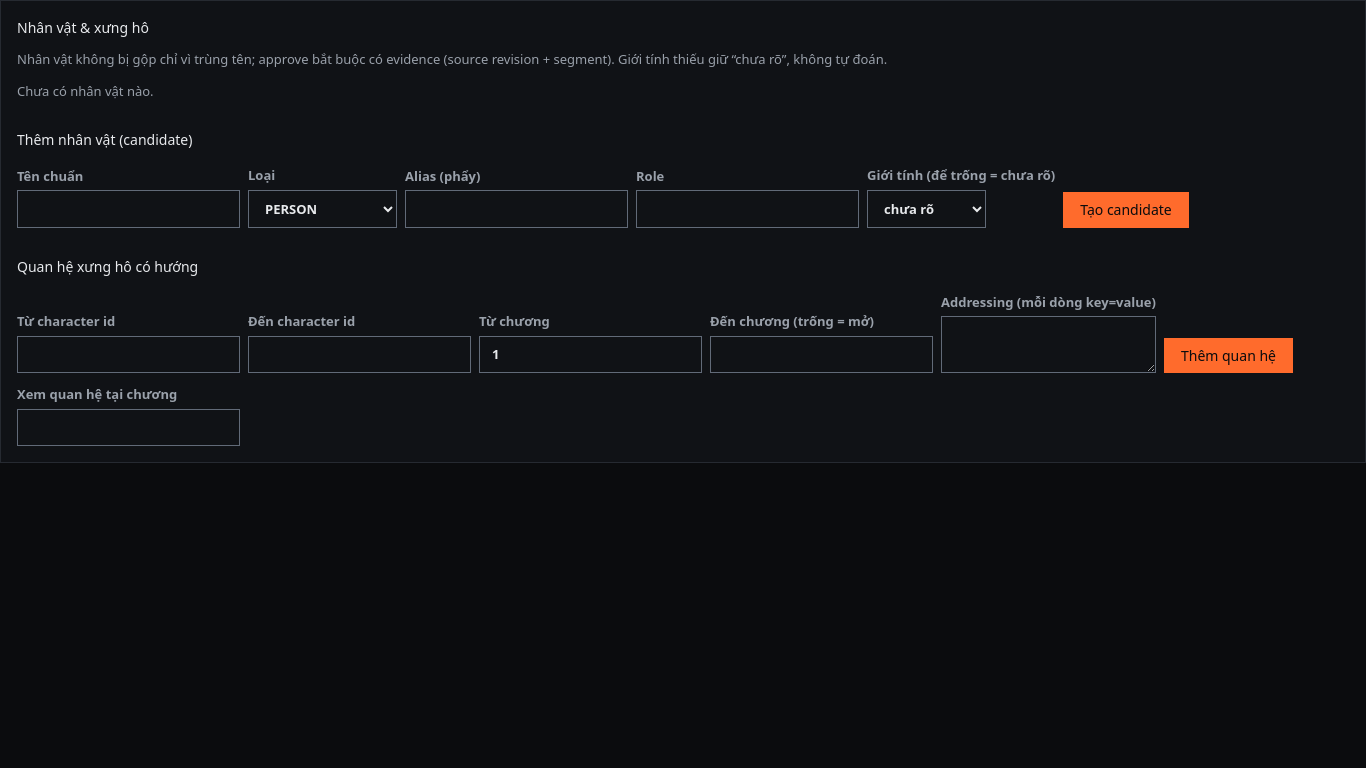
Test: CharacterManager (U09 part 3) › sends directed relationships and lists them for a chapter
Expected: the text "Chưa có nhân vật nào." is shown, [17,82,154,100]
In the field labelled "Từ character id": (128, 354) [17,336,240,373], type "c1"
In the field labelled "Đến character id": (360, 354) [248,336,471,373], type "c2"
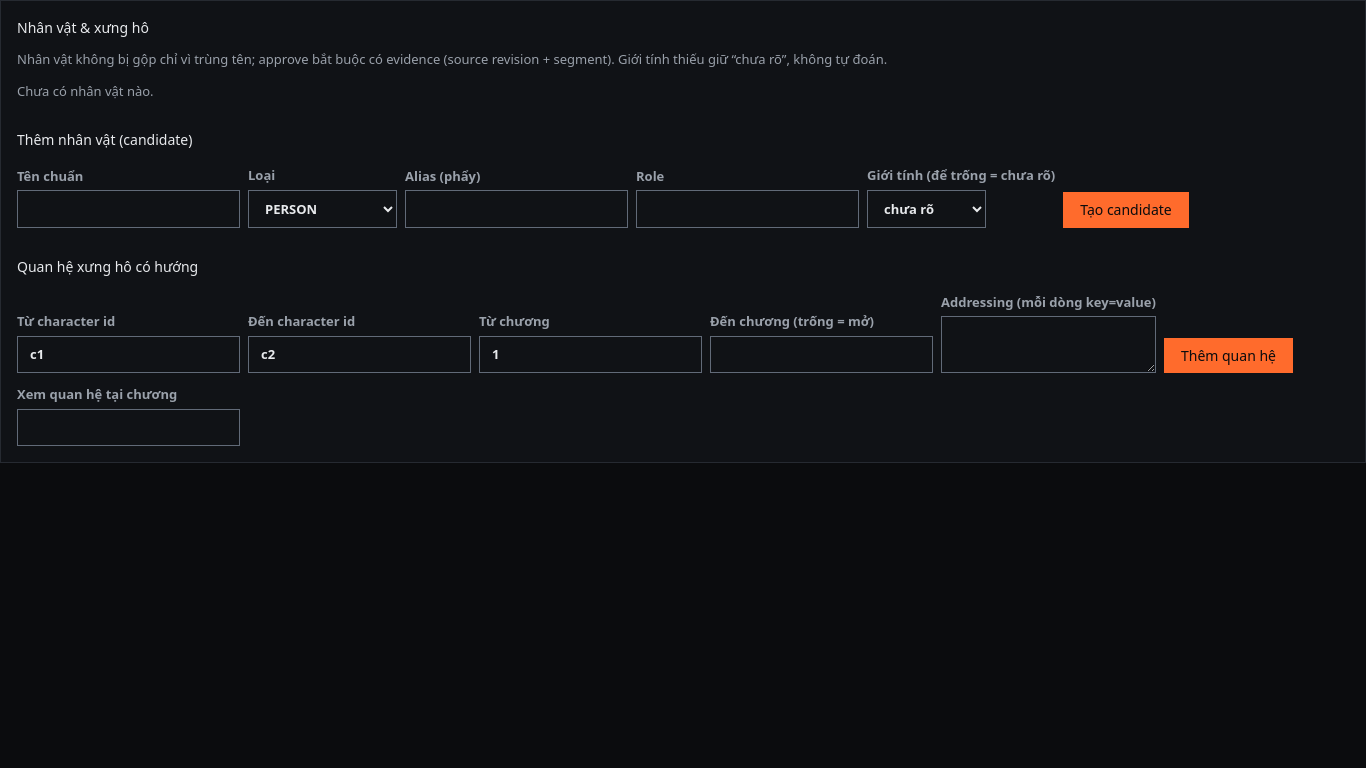
Replace the text in the field labelled "Từ chương" with "2": (590, 354) [479,336,702,373]
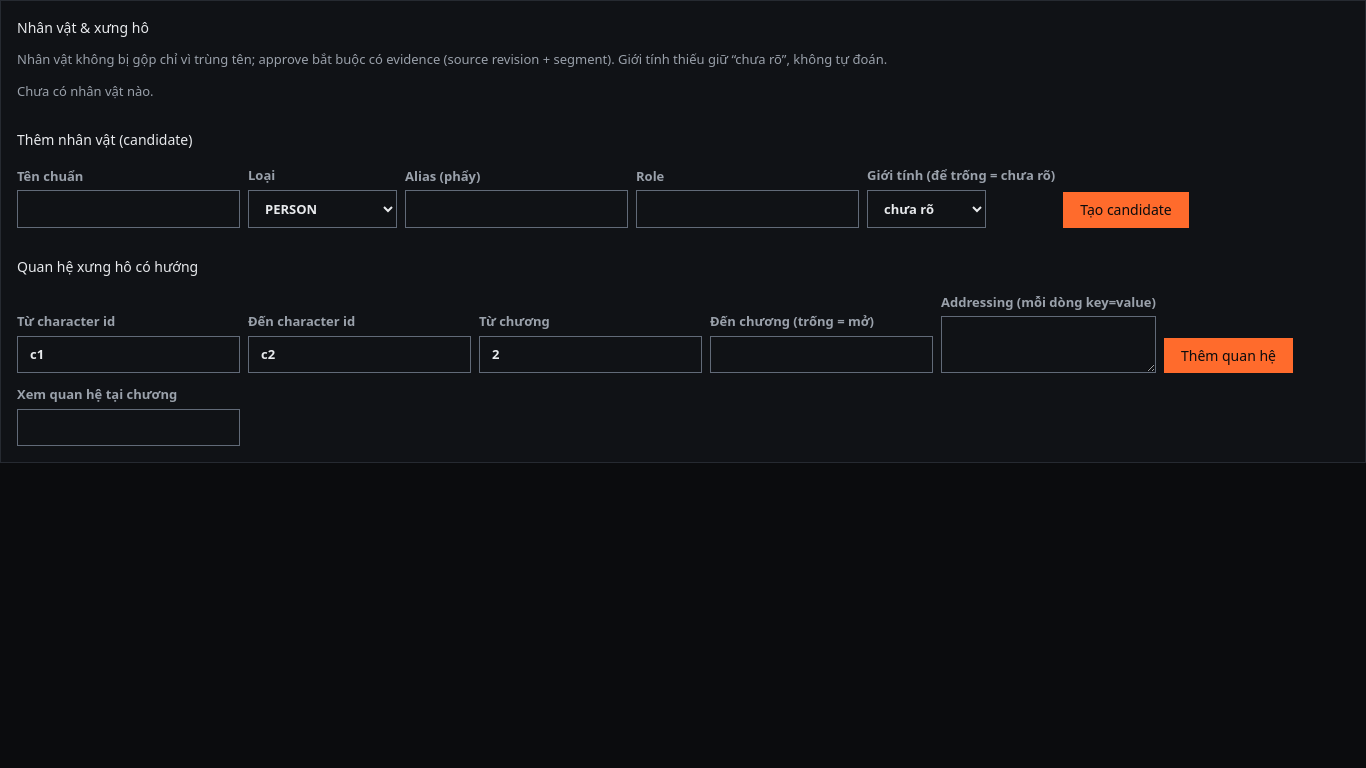
In the field labelled "Đến chương (trống = mở)": (822, 354) [710,336,933,373], type "6"
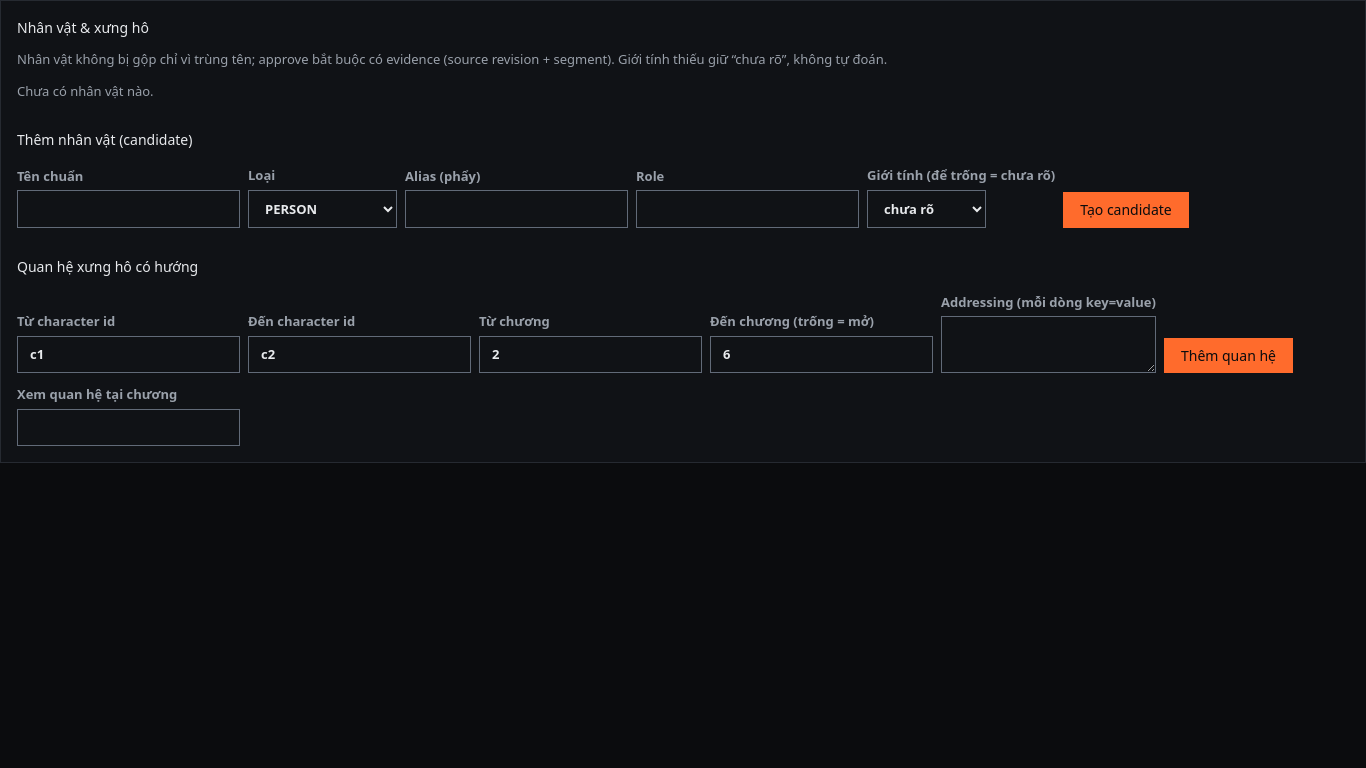
In the text box labelled "Addressing (mỗi dòng key=value)": (1048, 344) [941,316,1156,373], type "call_self=ta"
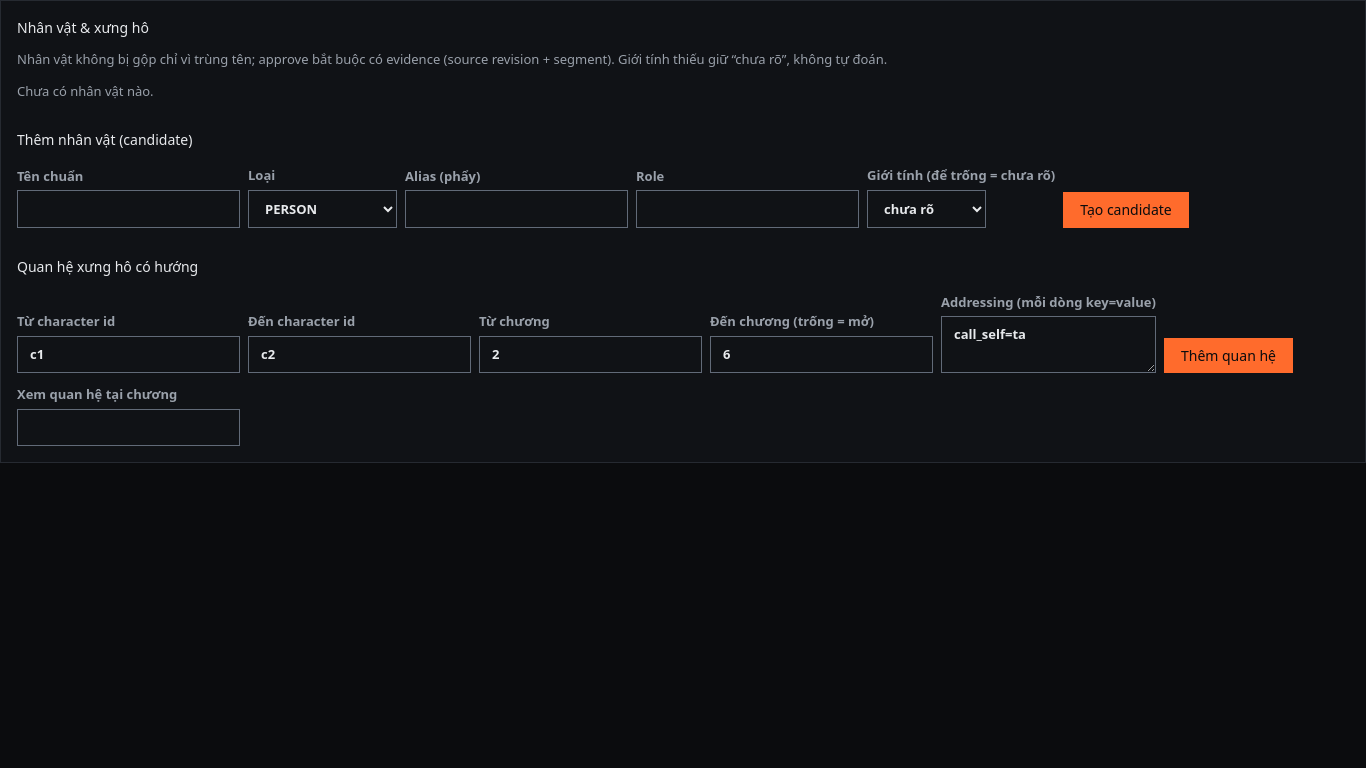
Click the button "Thêm quan hệ": (1228, 355) [1164,338,1293,373]
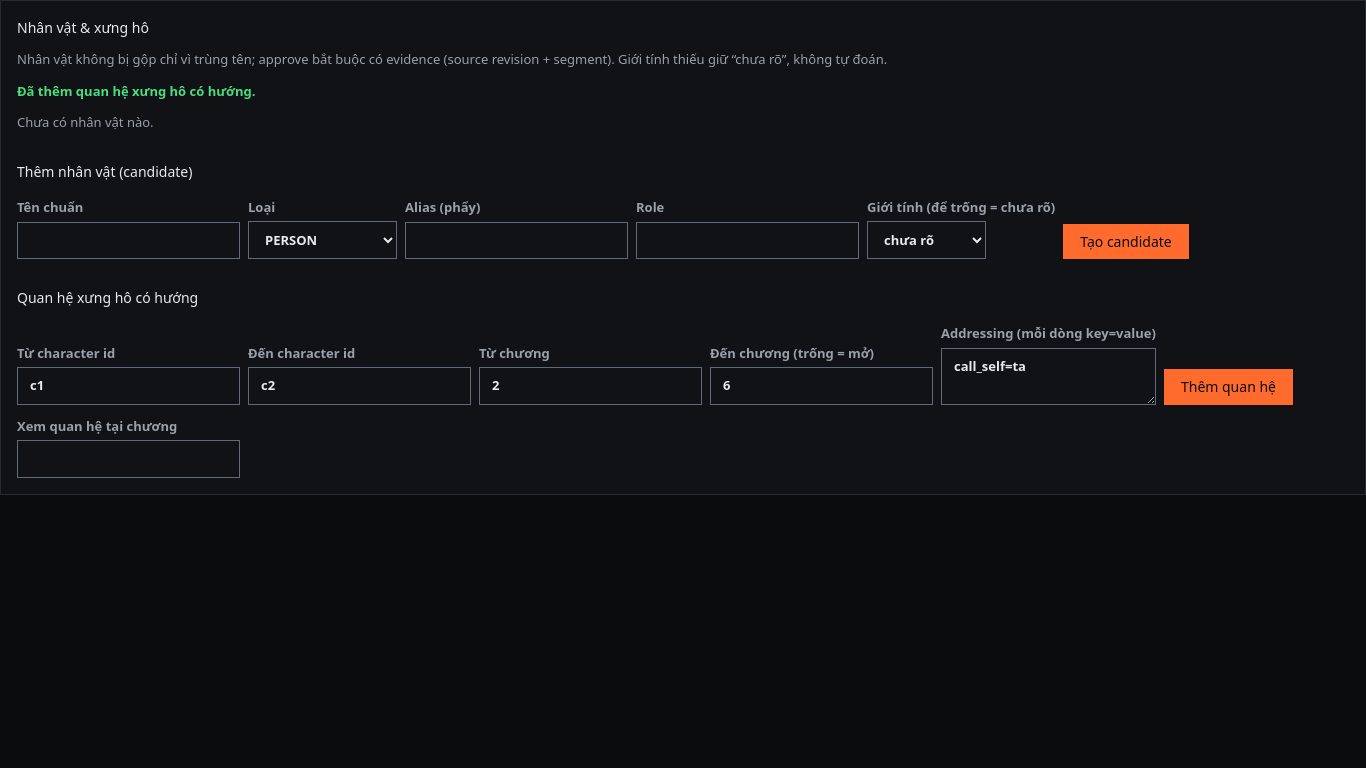
In the field labelled "Xem quan hệ tại chương": (128, 459) [17,440,240,478], type "5"
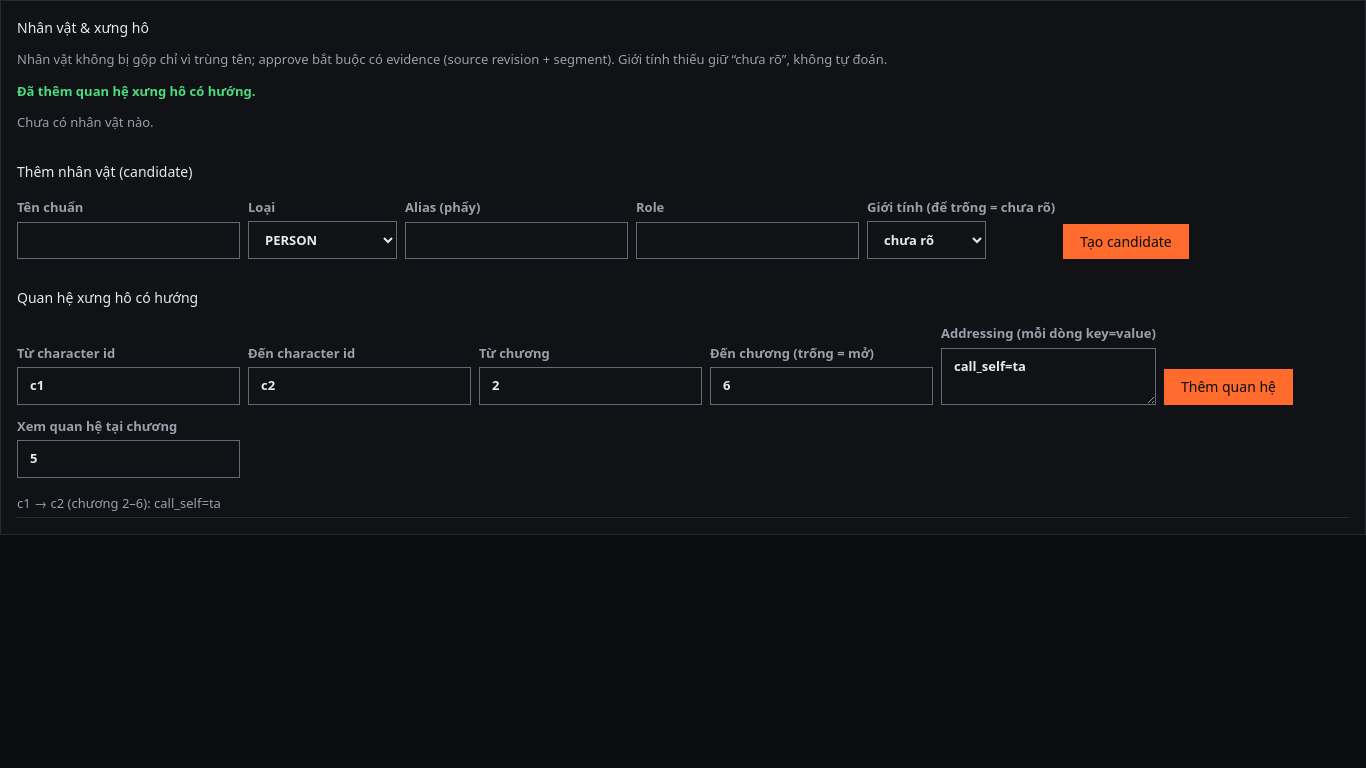
Expected: the list named "Quan hệ tại chương đã chọn" shows "c1 → c2", [17,490,1349,518]
Expected: the list named "Quan hệ tại chương đã chọn" shows "call_self=ta", [154,494,221,512]
